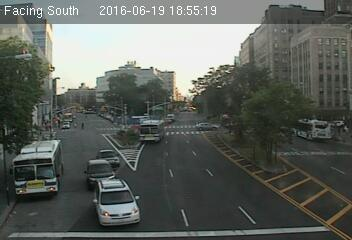neg: (102, 148, 118, 168), (135, 128, 150, 148)
pos: (77, 120, 85, 129)
